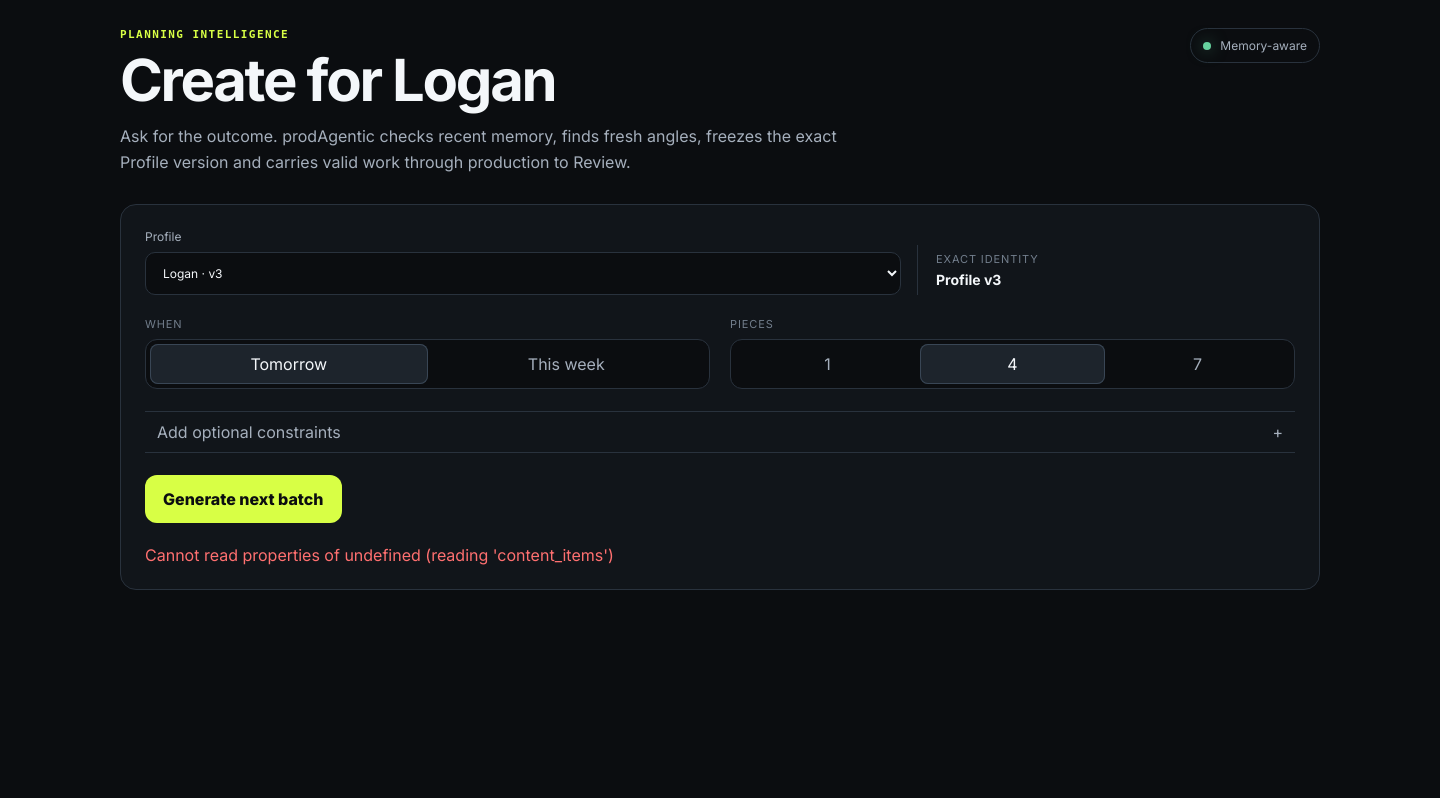
automatically resumes a retryable persisted pipeline failure
Expected: the heading "Create for Logan" is shown, [120,45,555,115]
What coordinates should you click on to do the following:
click the button "Generate next batch"
I would click on:
 (243, 498)
Its box is [145,474,342,522].
(page scrolled)
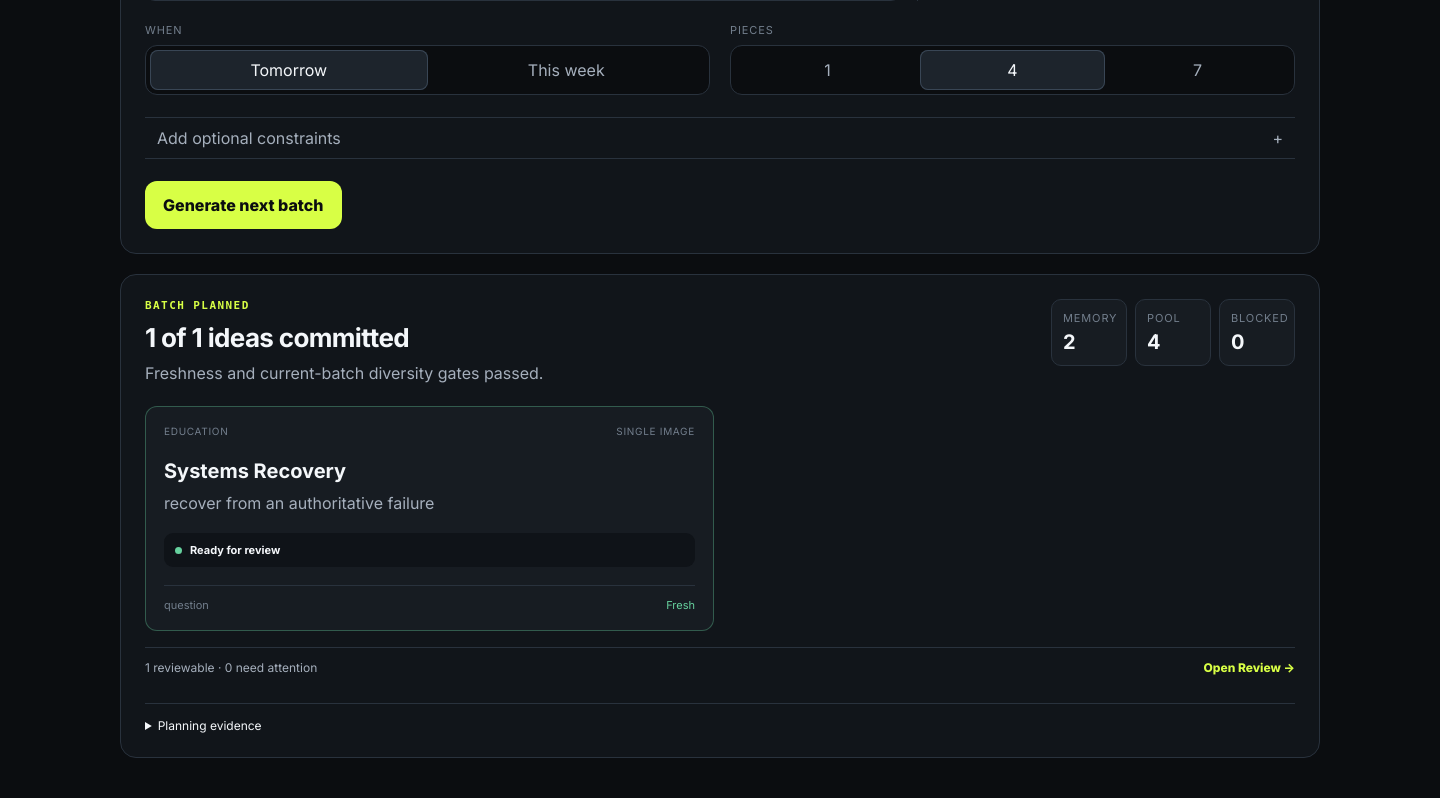
Expected: the text "Ready for review" is shown, [190,543,280,557]
